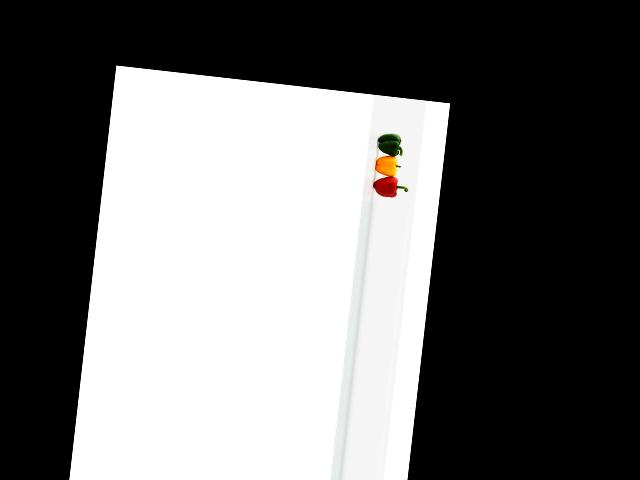bell_pepper: (368, 172, 411, 205)
